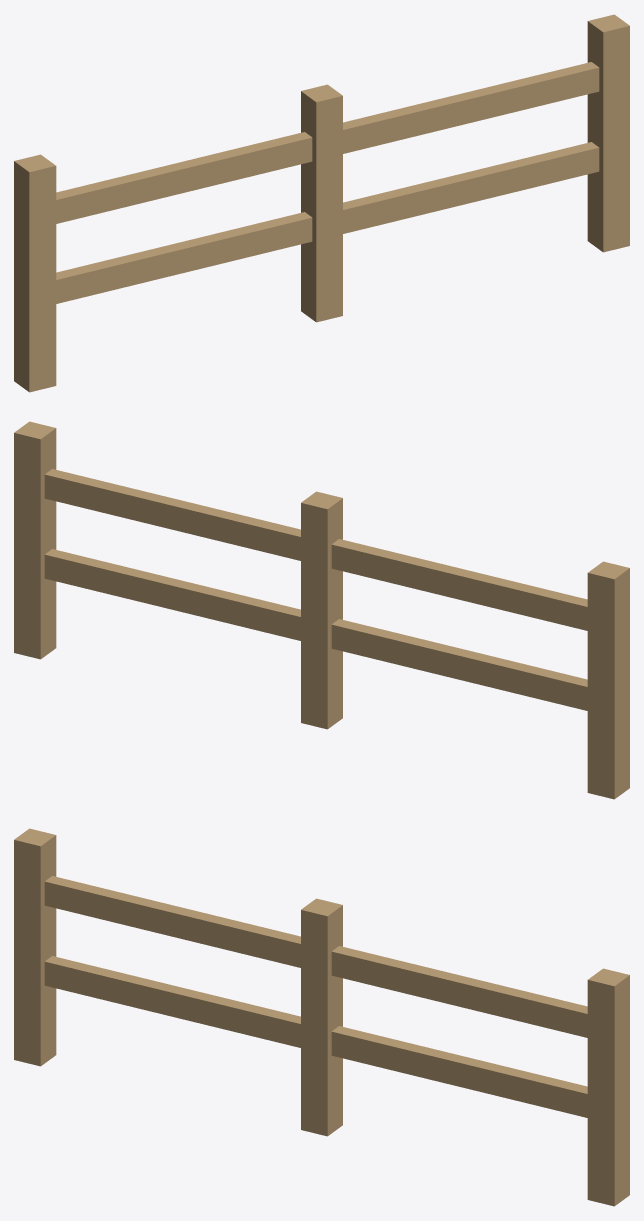
Rendered from fence.glb.
3 renders of one model, top to bottom at view 1: azimuth 30°, elevation 25°; view 2: azimuth 150°, elevation 25°; view 3: azimuth 330°, elevation 25°, orthographic.
Parts seen in each view (by area): view 1: Fence; view 2: Fence; view 3: Fence.
Boxes of the visible parts, <box> form: Fence: <box>14,14,629,392</box>; Fence: <box>14,421,629,799</box>; Fence: <box>14,828,629,1206</box>.
Size of the model in its own units: 3.14 by 1.1 by 0.14.
